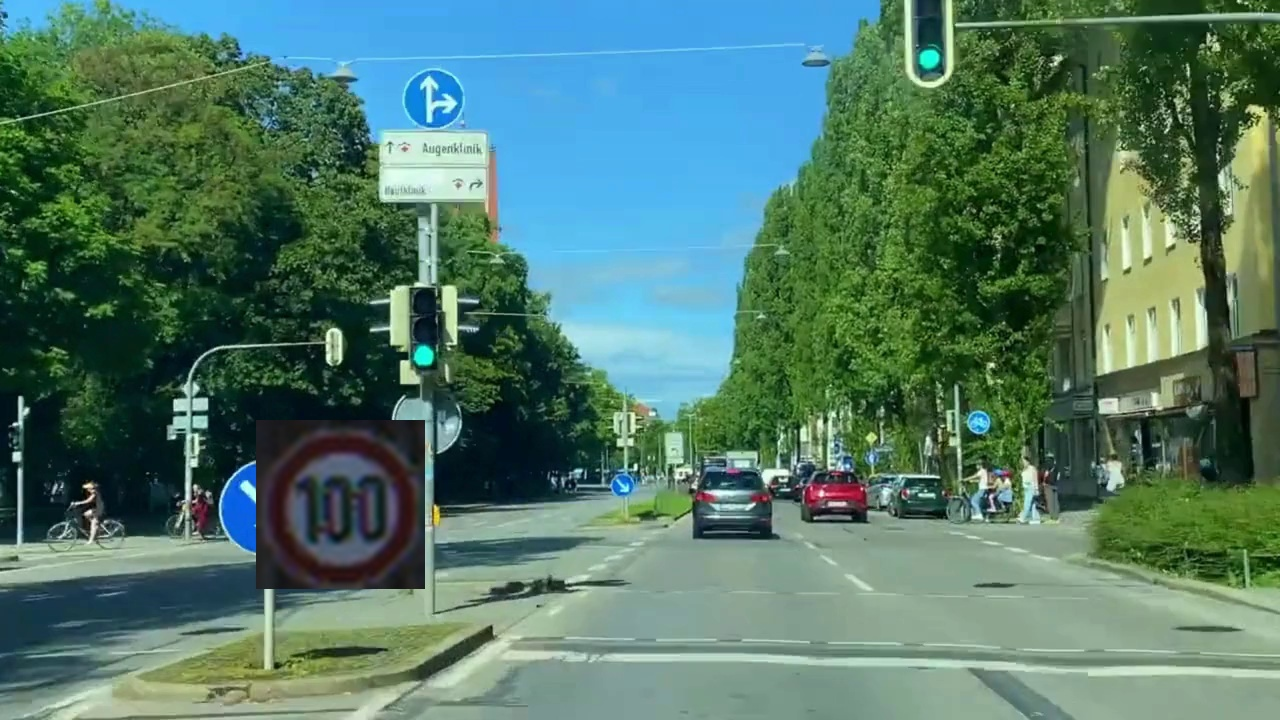Speed 100: (256, 420, 425, 589)
